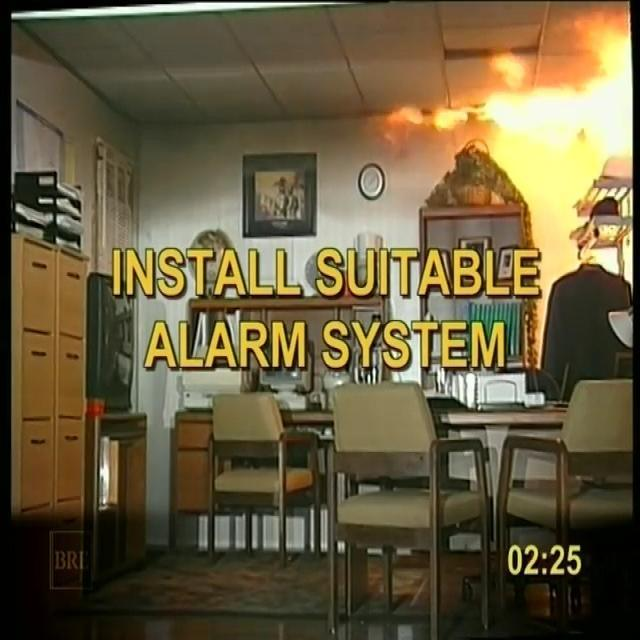Fire: (382, 5, 636, 287)
